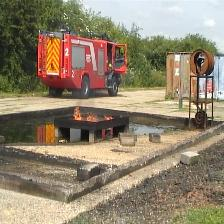fire: (88, 112, 115, 122), (75, 105, 82, 119)
